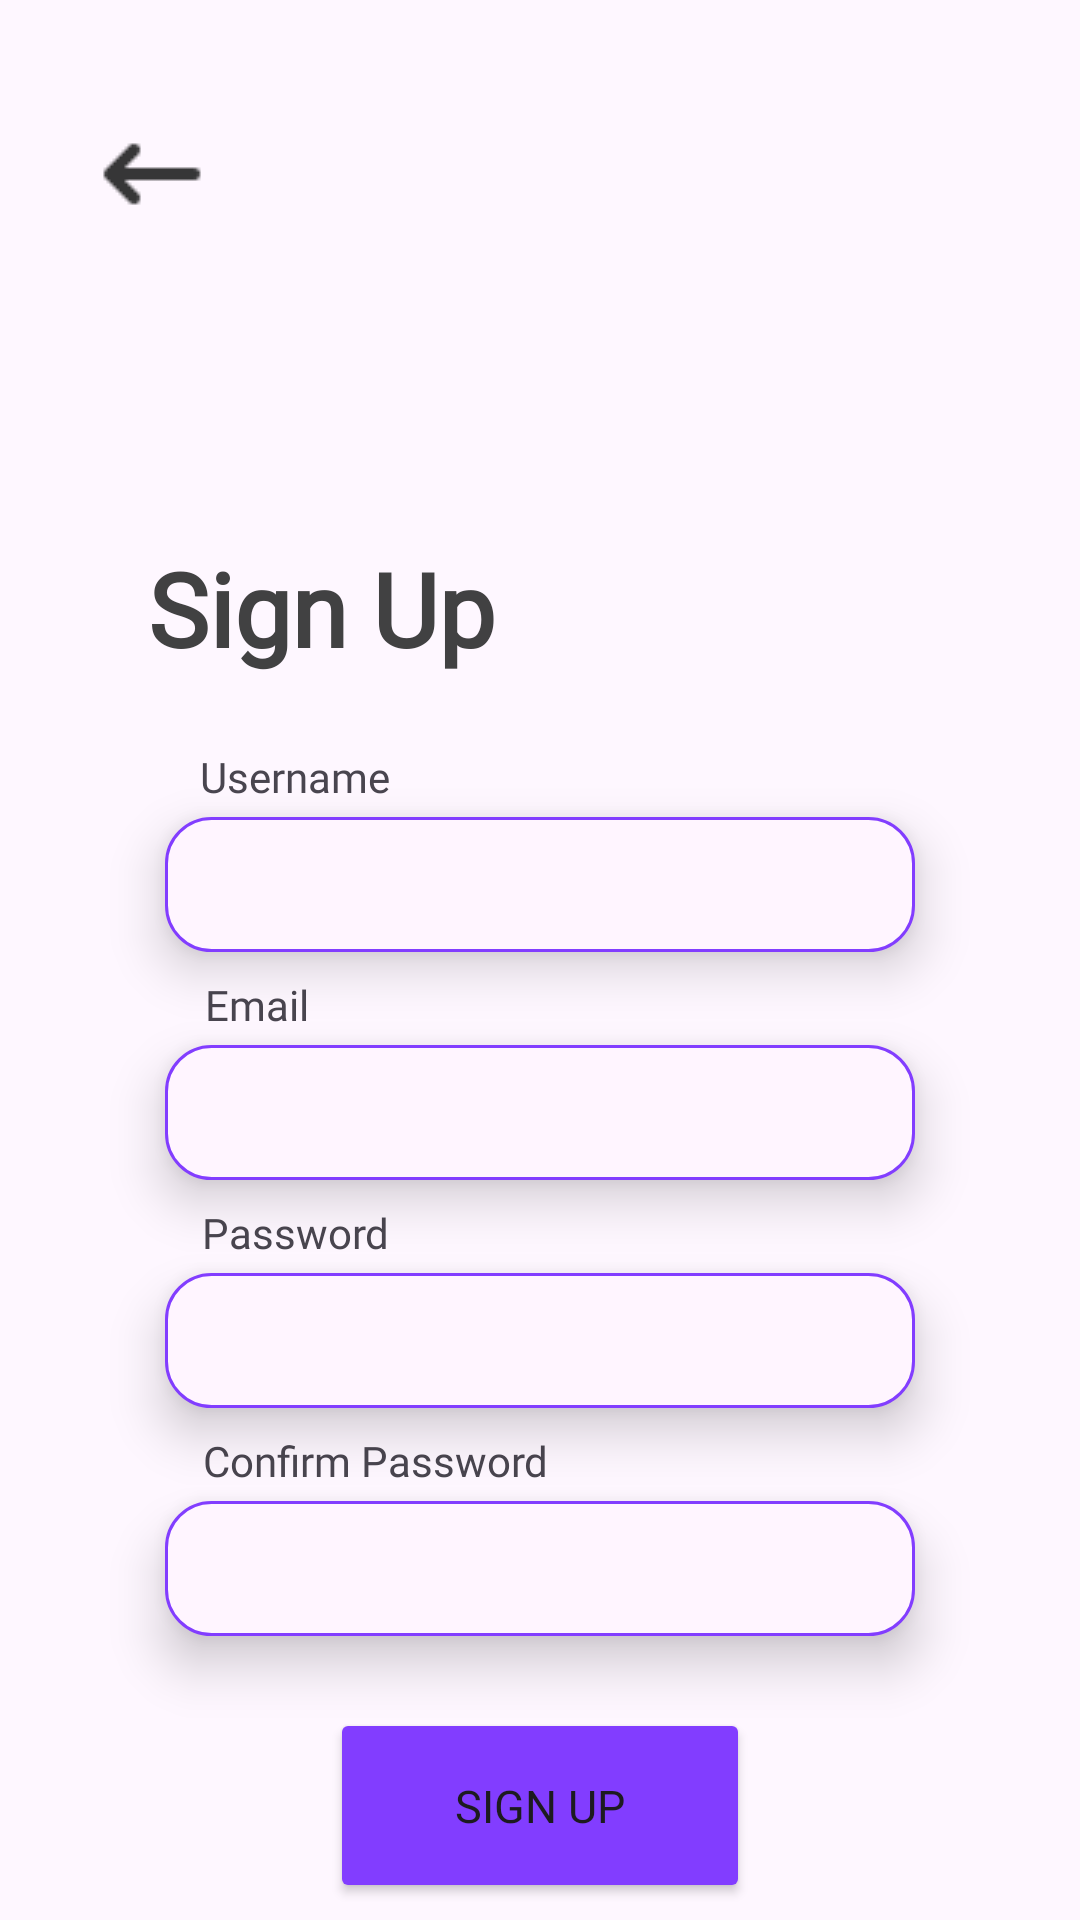

Icon bounding boxes for this 1080 x 1920 phone screenshot, format (x1,y1,x2,y2):
arrow back: (103,143,201,205)
